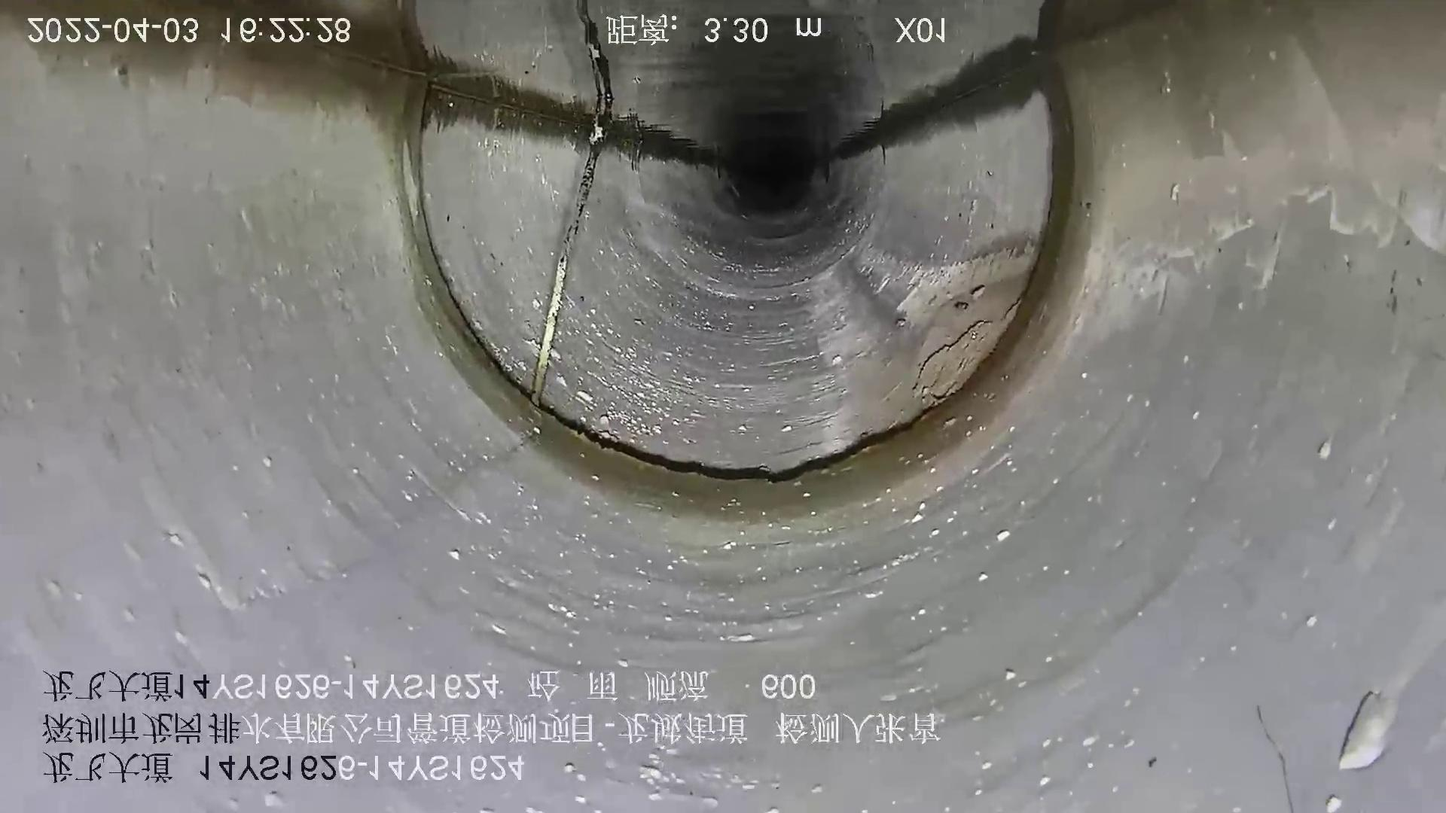YWCR: (530, 87, 619, 414)
